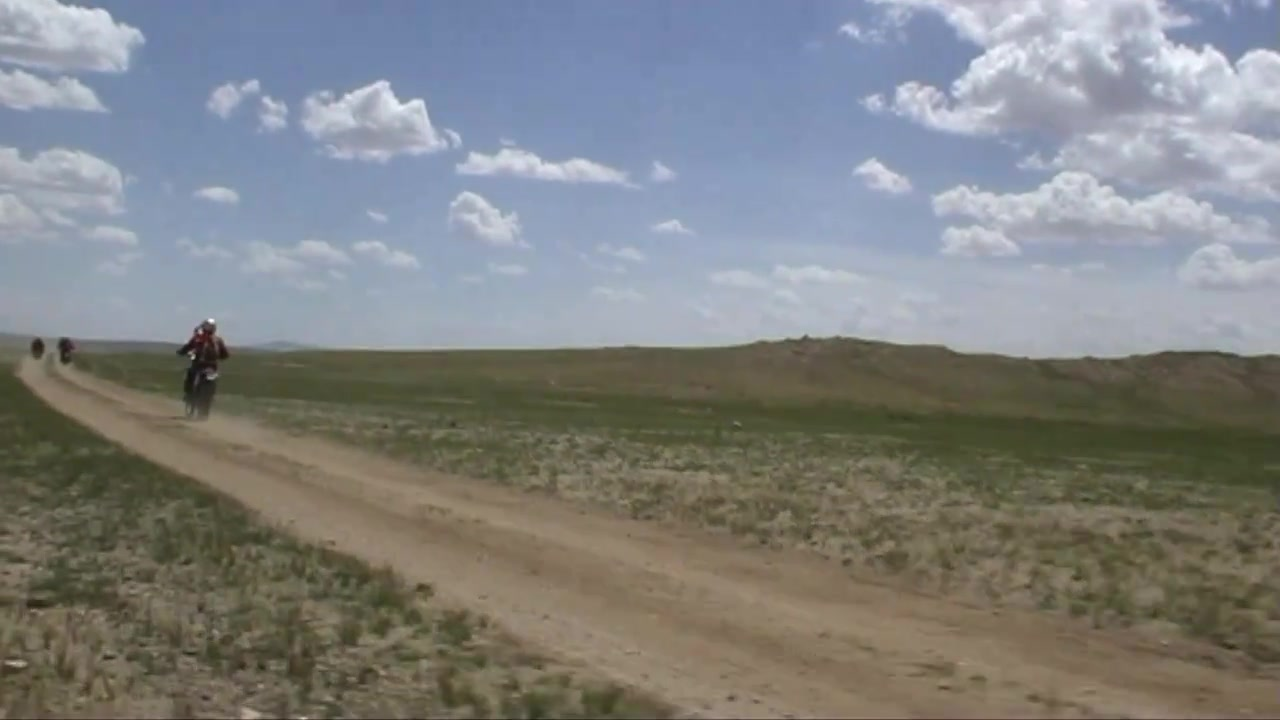motorbike: (174, 339, 229, 424), (60, 344, 77, 367), (31, 342, 49, 363)
